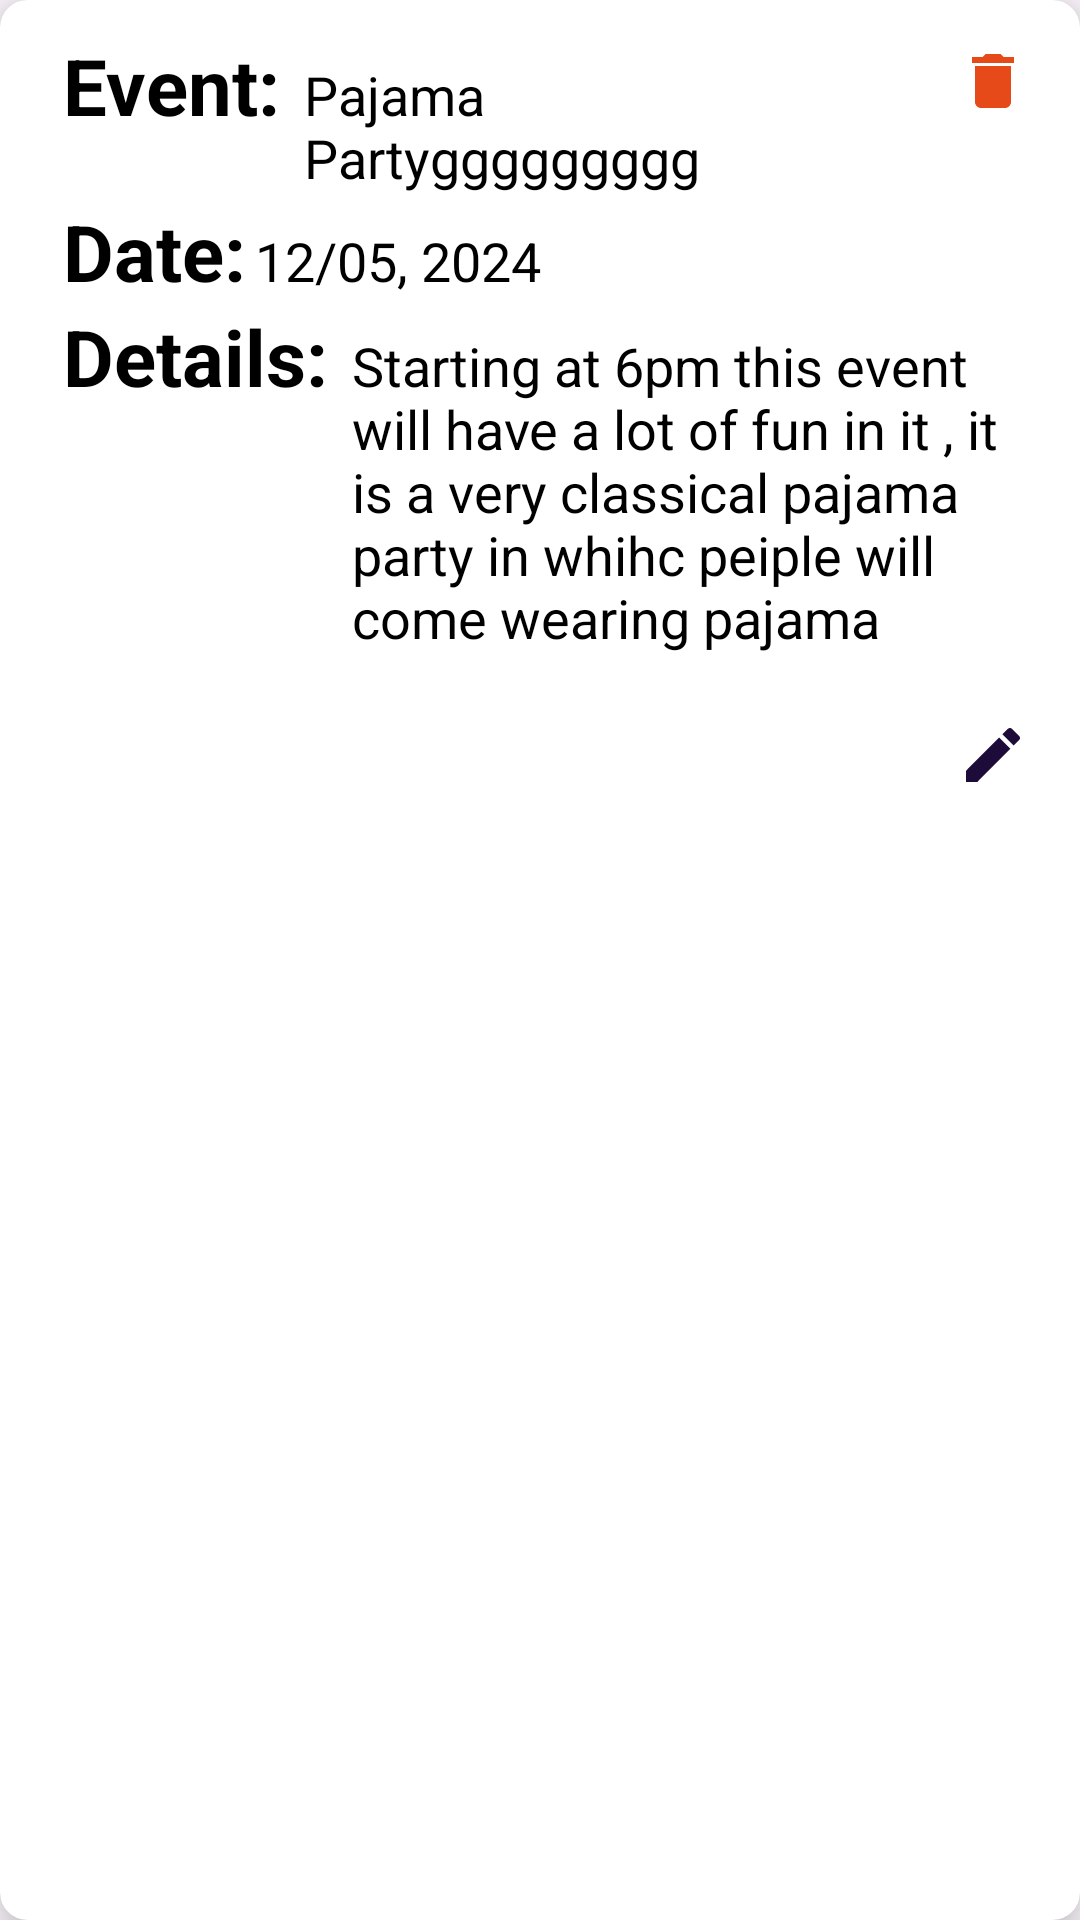

Named icons in this screenshot (1080*1920) and their centers, (x,y):
delete: (993,81)
edit: (993,755)
